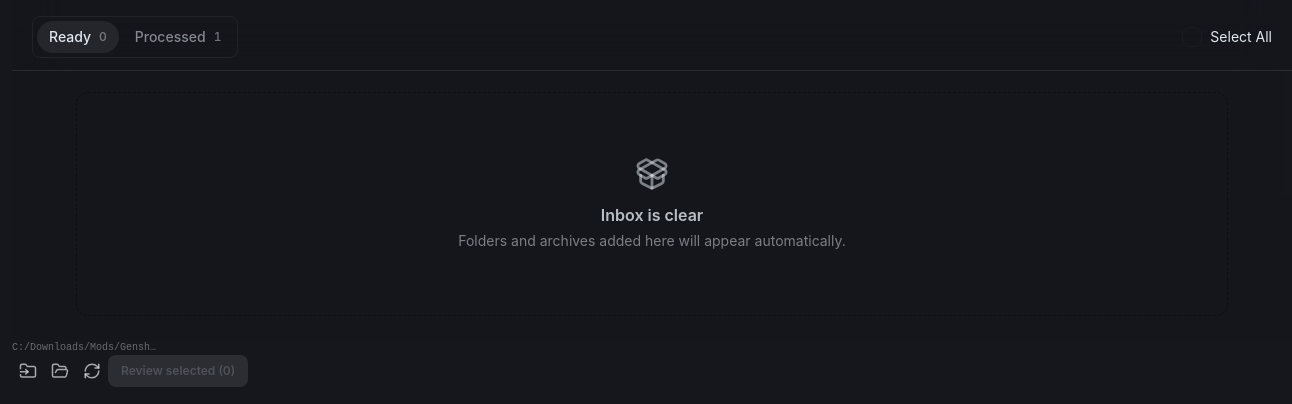
Test: ModInboxPage › keeps history accessible when its destination object has been deleted
This screenshot has width=1292, height=404.
Click the tab "Processed 1".
click(178, 37)  # box [123,21,233,53]
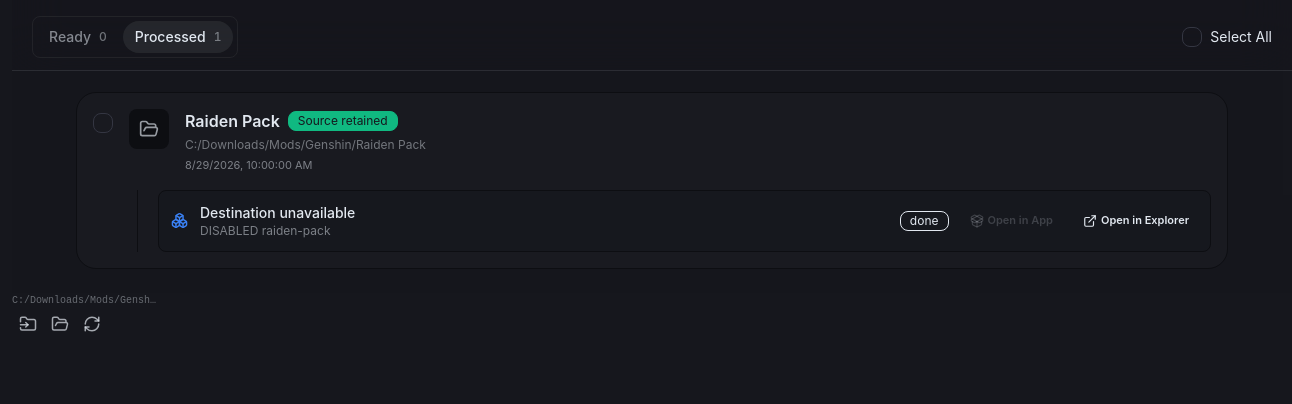
Check: the text "Destination unavailable" is shown, box [200,204,355,220]
Check: the button with aria-label "Open destination in app" is disabled, box [960,208,1062,232]
Check: the button with aria-label "Open destination in Explorer" is enabled, box [1074,208,1198,232]
